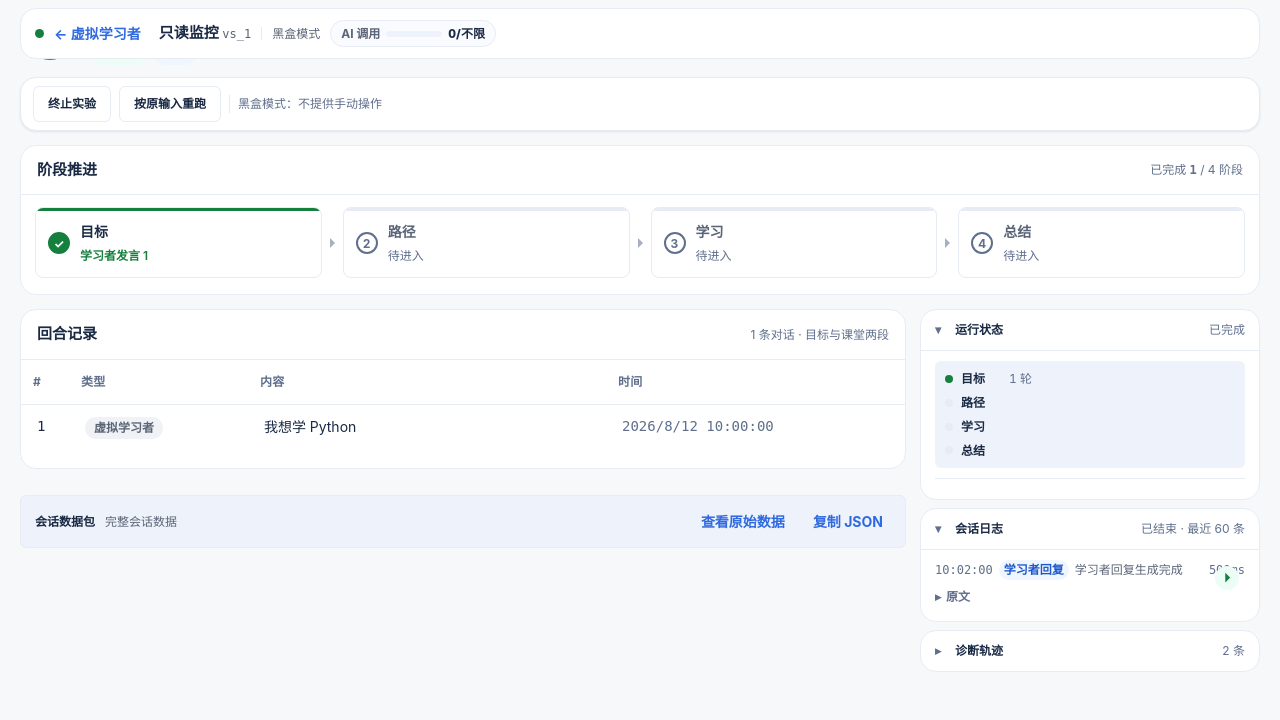
Test: SessionCockpit 双模式 › 虚拟模式：黑盒会话黑盒区保留（终局评估/轨迹/放弃实验）+ 三流统一时间线
(page scrolled)
Click the button "▸ 诊断轨迹 2 条" at (979, 650), box [921,631,1259,670]
(page scrolled)
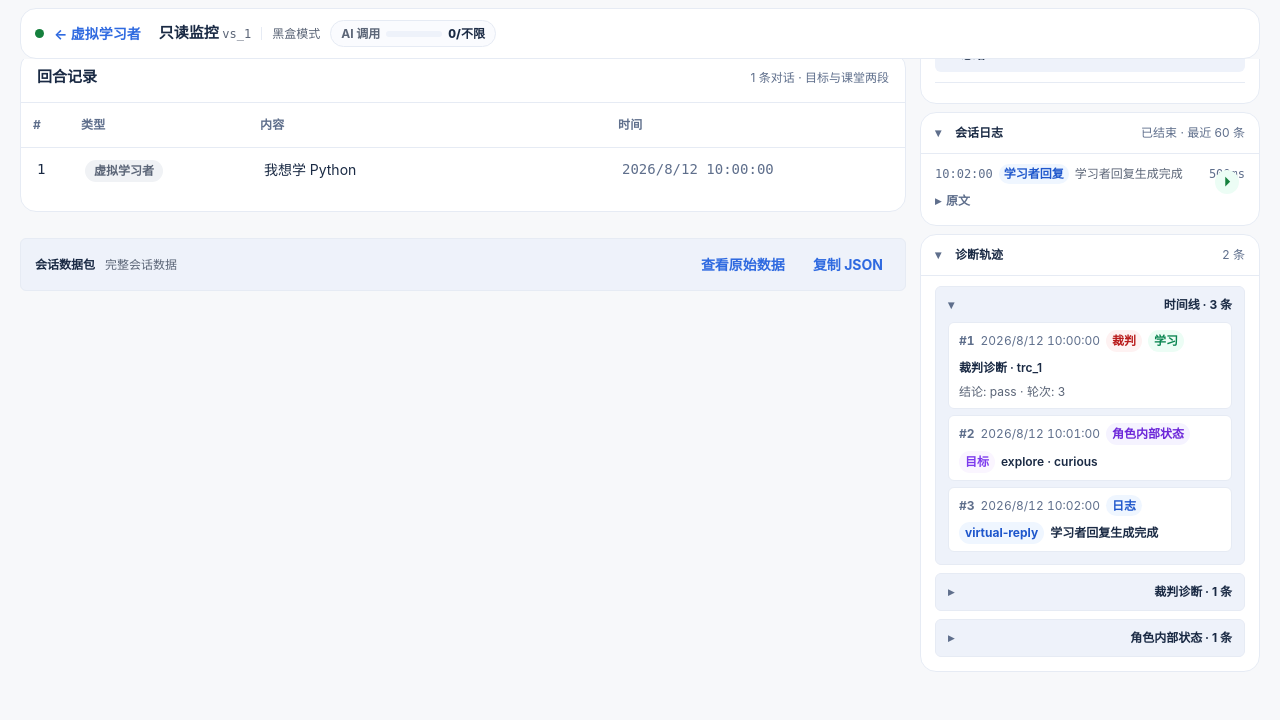
expect the text "裁判诊断" is shown: met, box [959,360,1042,375]
expect the text "时间线" is shown: met, box [1164,296,1232,312]
expect the element with class "cp-trace-panel" shows "curious": met, box [1001,454,1098,469]
